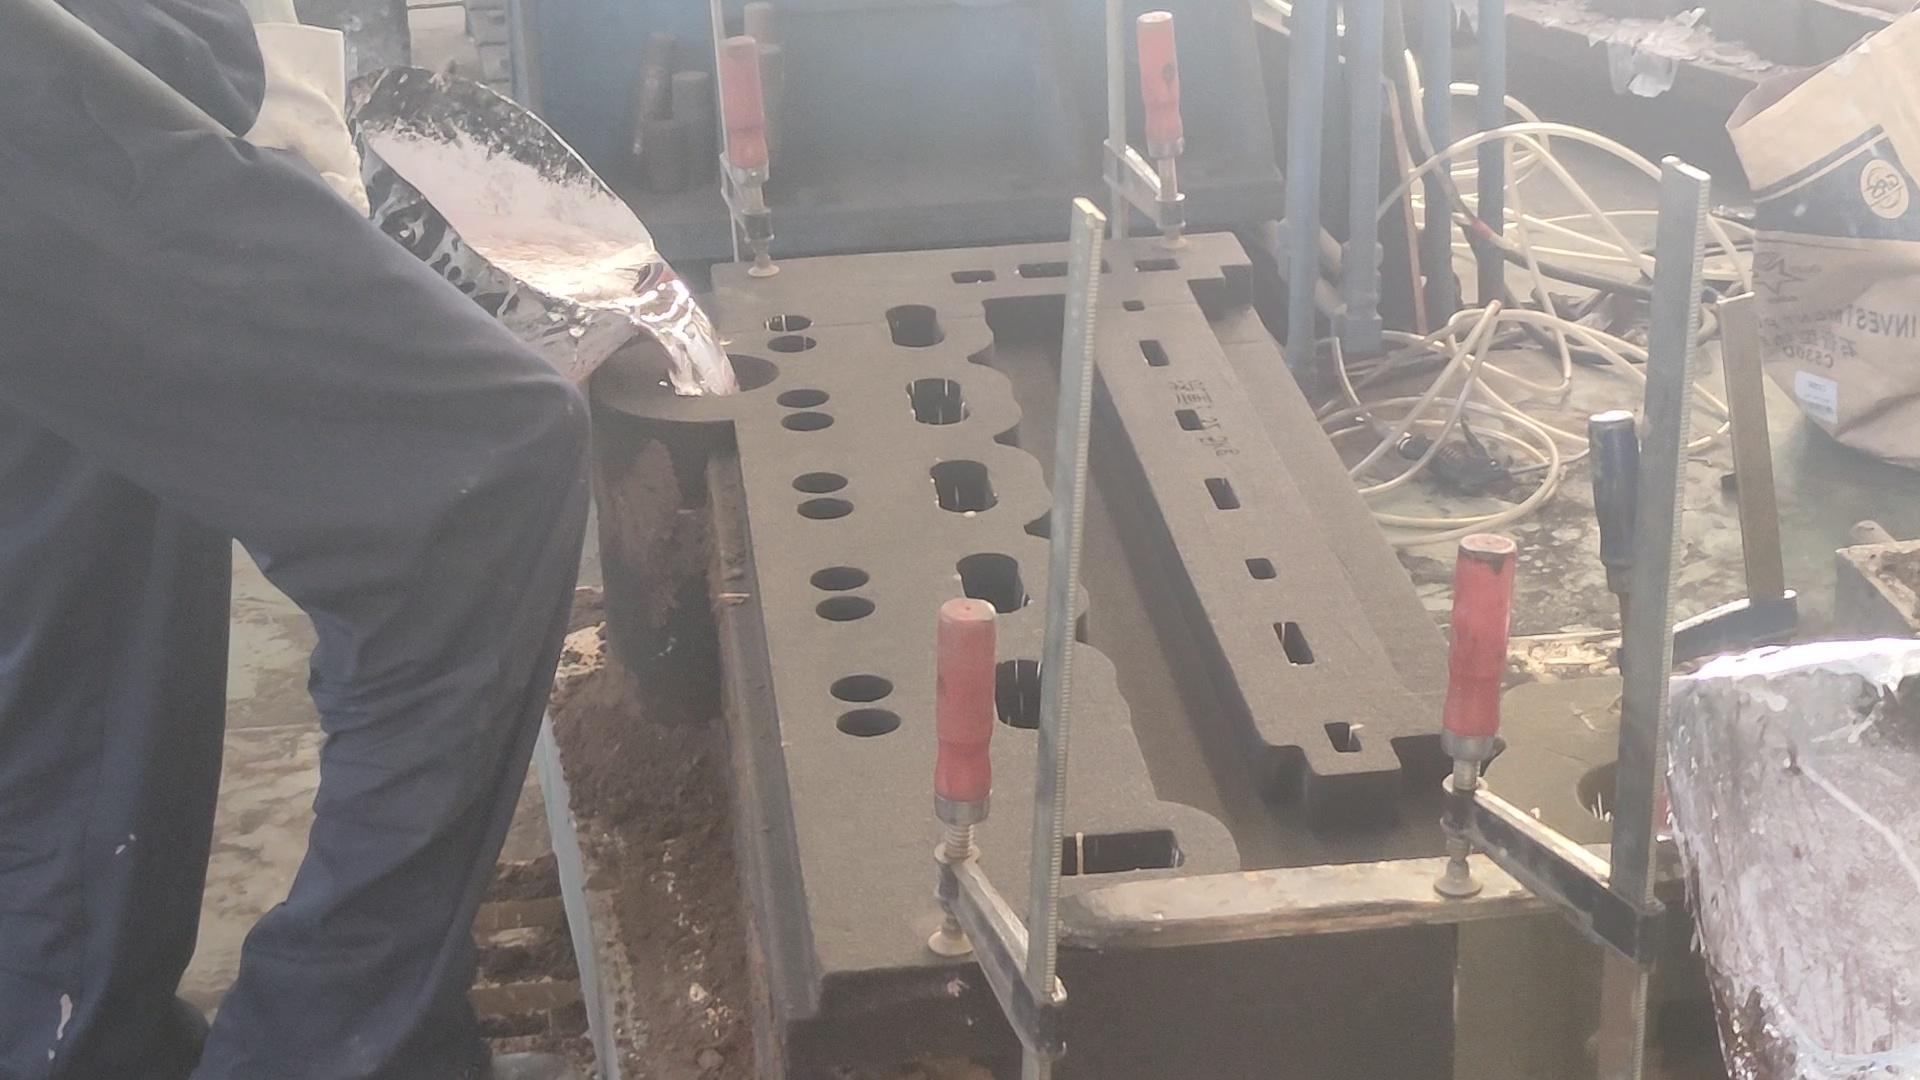pouring hole: (1578, 753, 1687, 829), (659, 351, 781, 396)
